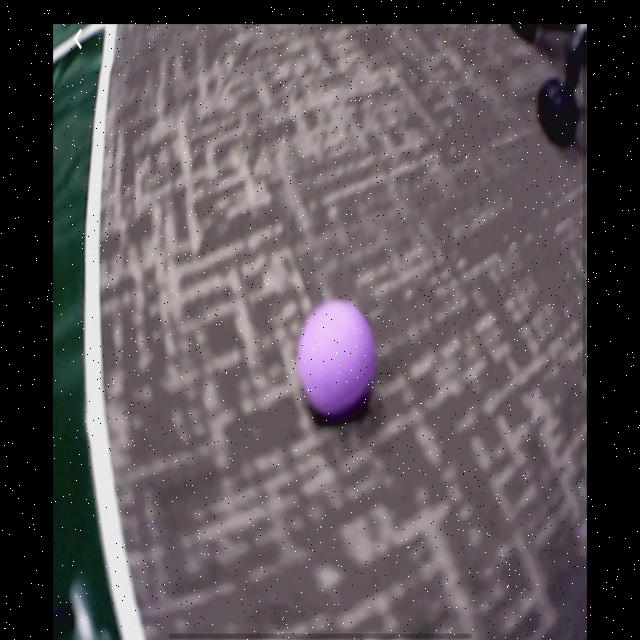ball: (297, 298, 377, 423)
